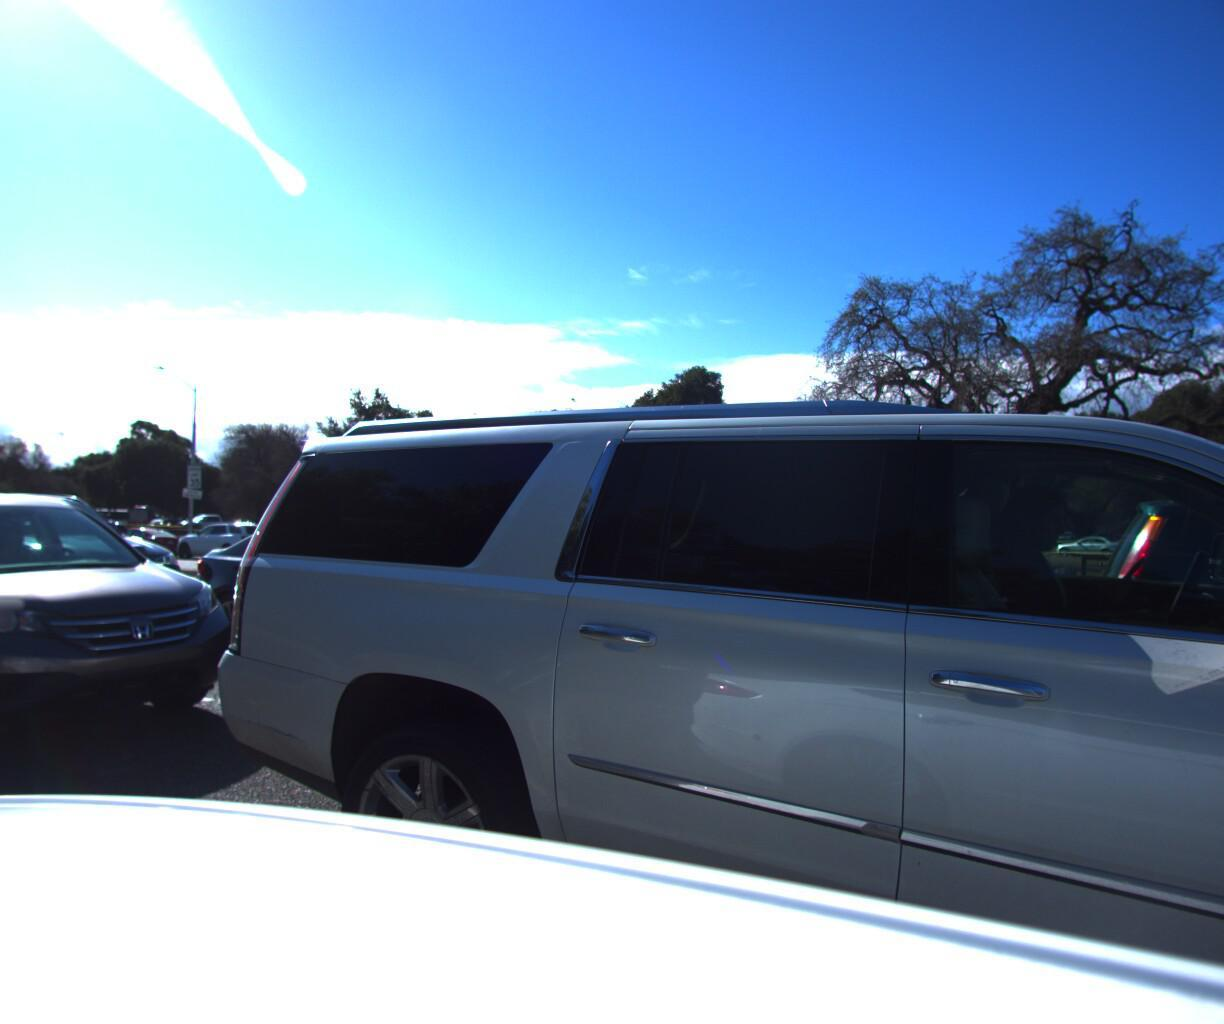car: (182, 91, 1224, 1024), (1042, 484, 1224, 1003), (170, 511, 623, 709), (0, 479, 256, 778), (0, 487, 205, 642), (172, 516, 283, 561), (95, 522, 189, 557)
